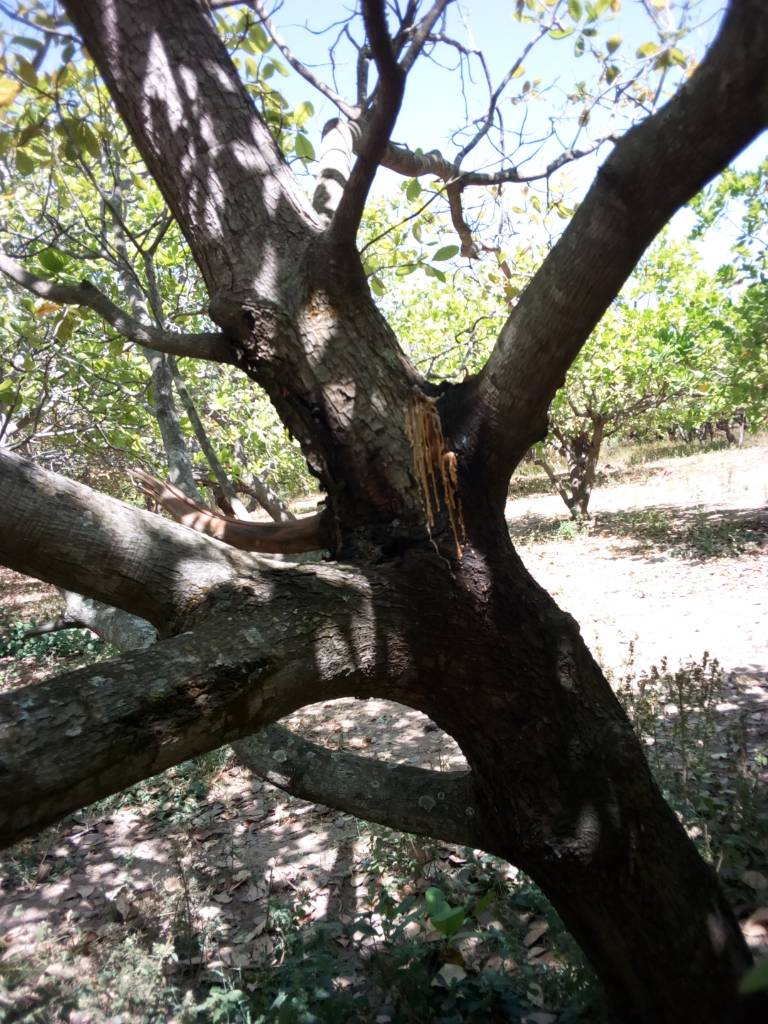Gommose: (400, 391, 497, 557)
